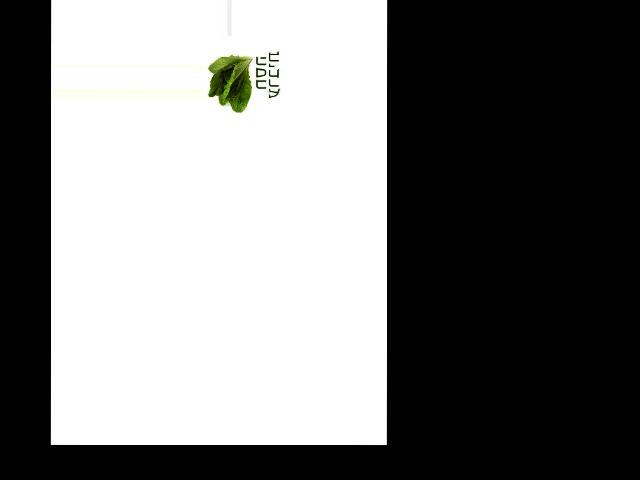lettuce: (208, 51, 257, 113)
